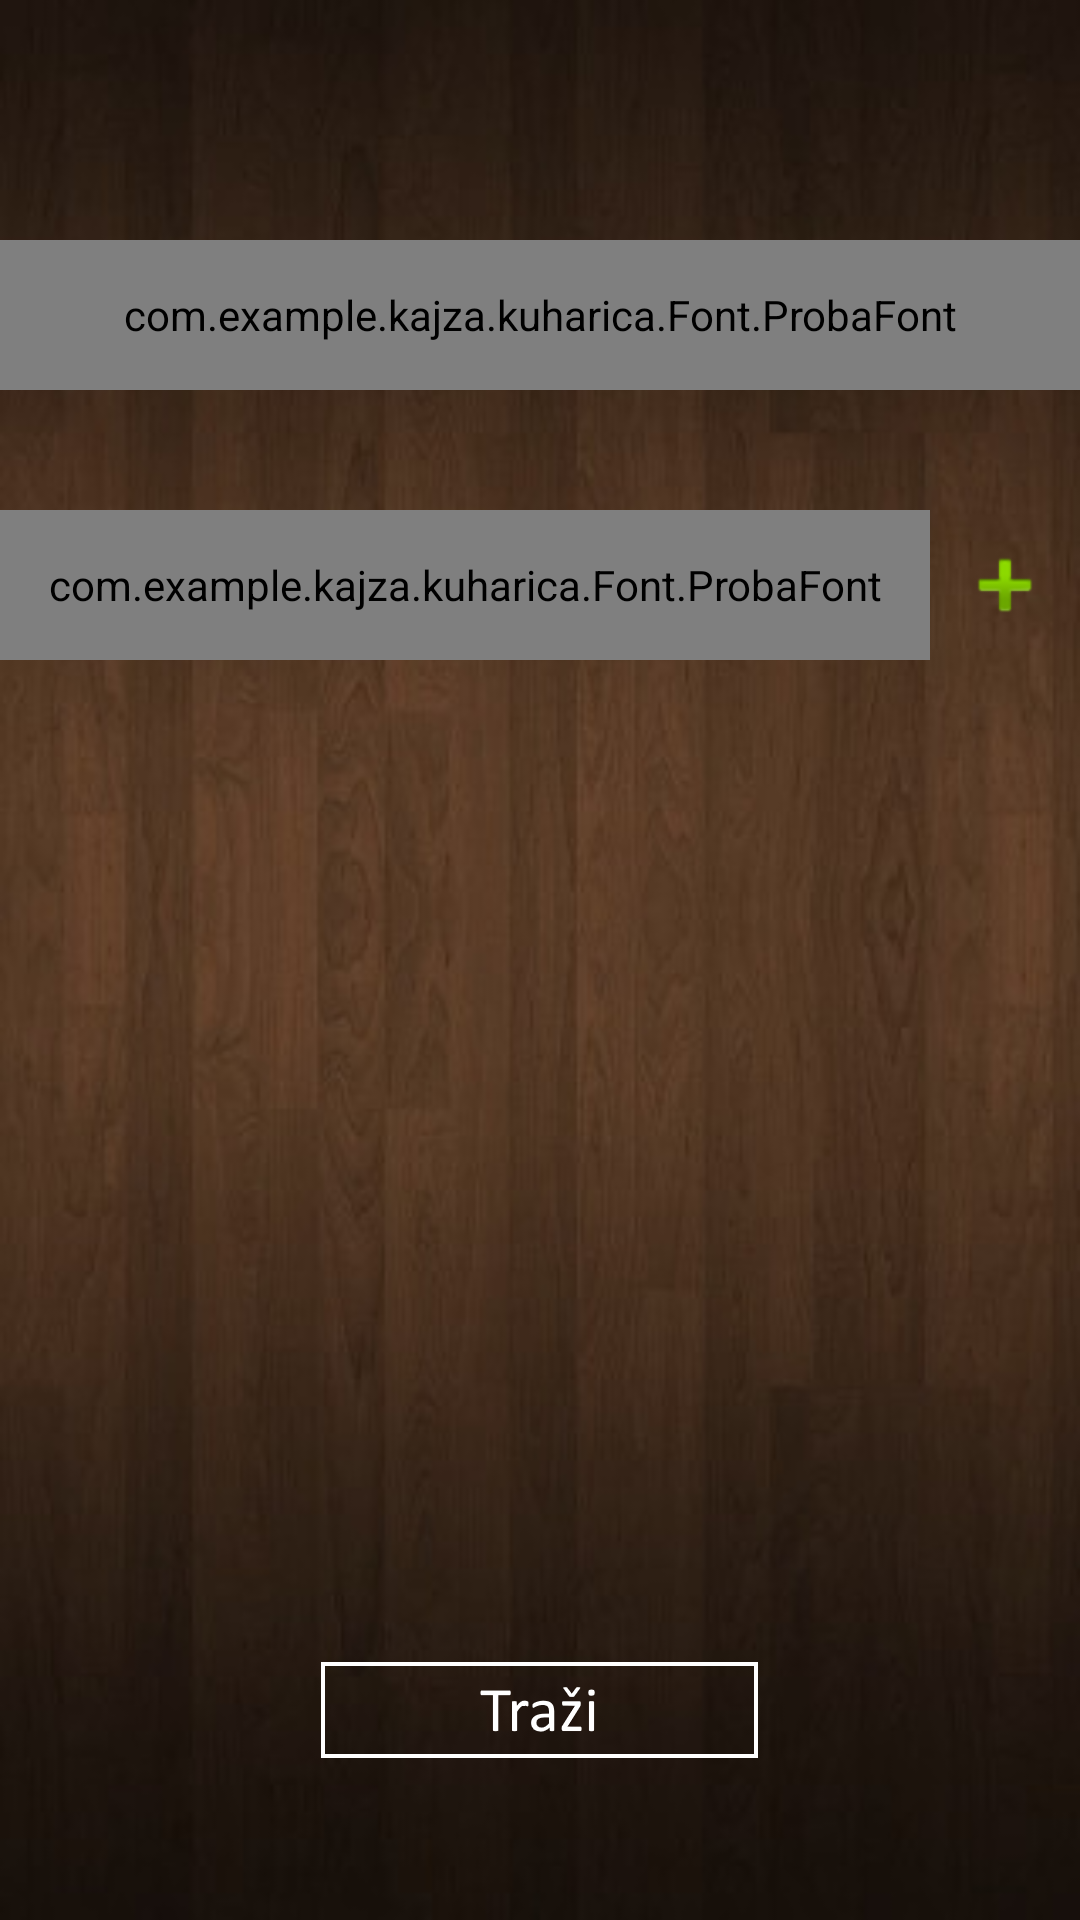

Where to tap for icons on this 1080w x 1920h app screen, as point (x, y):
add: point (1005, 585)
